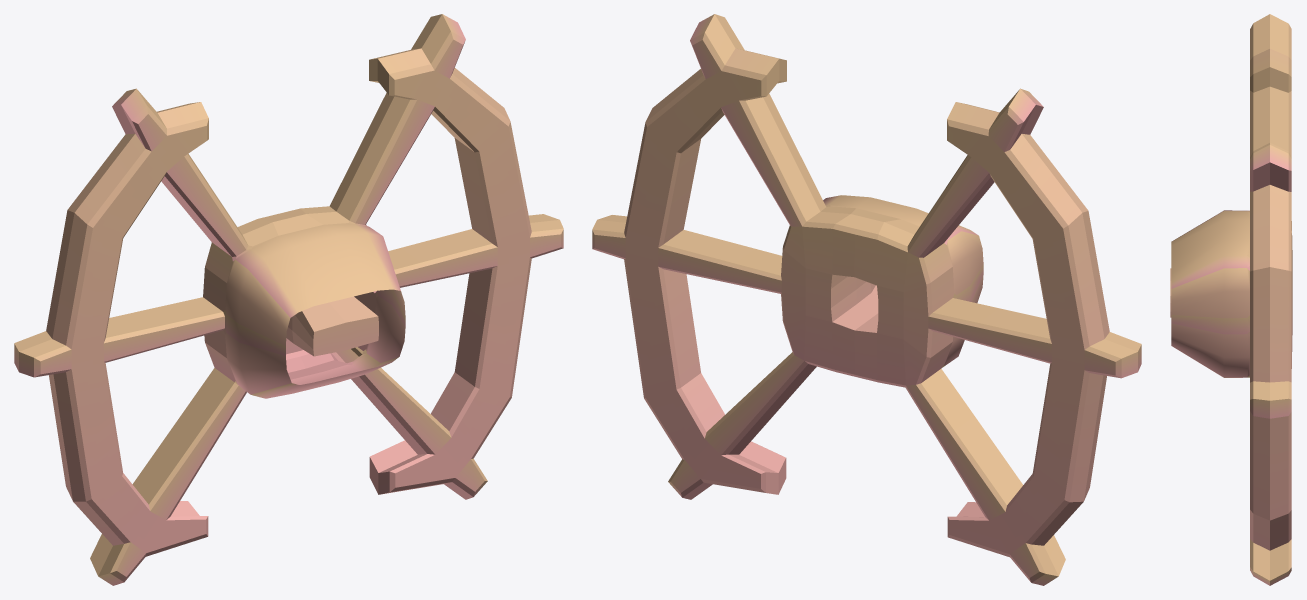
File: can_kart_volant_v21.fbx
3 renders of one model, left to right at view 1: azimuth 30°, elevation 25°; view 2: azimuth 150°, elevation 25°; view 3: azimuth 270°, elevation 25°, orthographic. The views are drawn at different scales.
Visible parts, largest first — view 1: Plane.002; view 2: Plane.002; view 3: Plane.002.
Boxes of the visible parts, x1=… form: Plane.002: x1=14, y1=14, x2=563, y2=585; Plane.002: x1=592, y1=14, x2=1141, y2=585; Plane.002: x1=1170, y1=14, x2=1292, y2=585.
Size of the model in its own units: 38.53 by 33.47 by 8.59.
